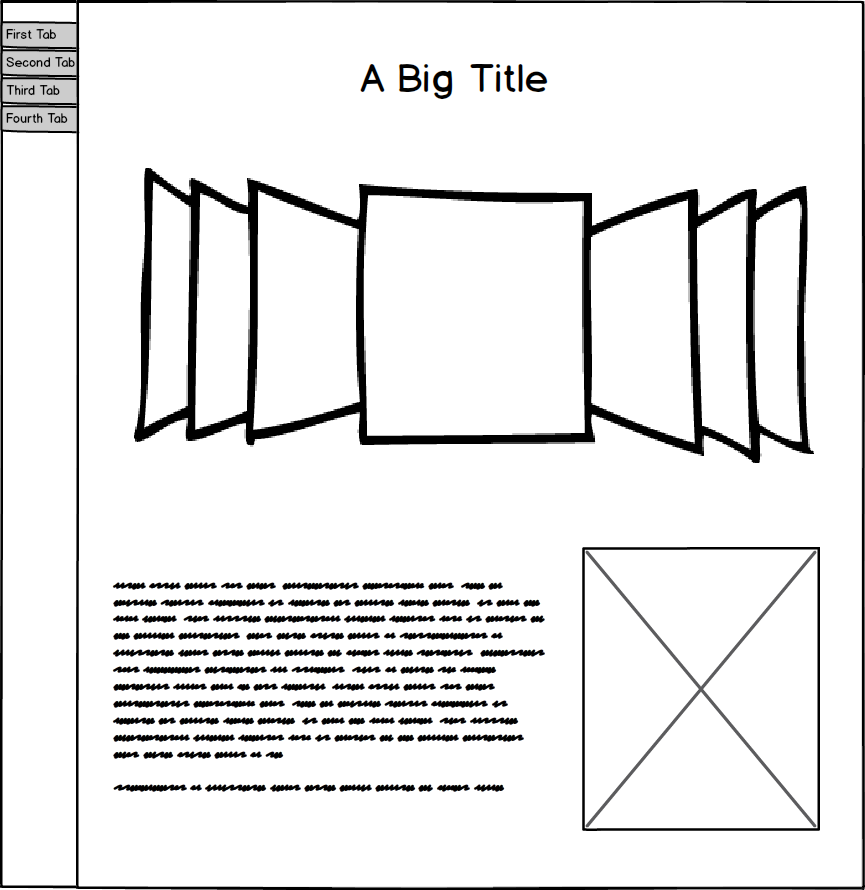h1: (349, 55, 556, 102)
image: (575, 539, 828, 836)
p: (105, 578, 552, 802)
sidebar: (3, 12, 86, 140)
slideshow: (128, 158, 824, 470)
